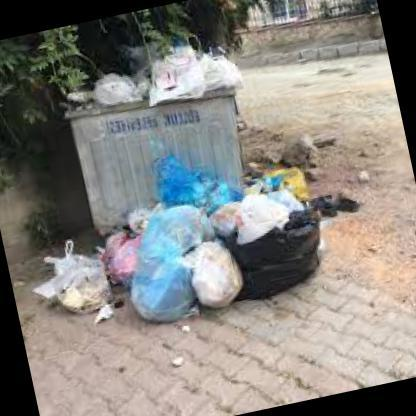Garbage: (6, 152, 362, 366), (104, 197, 231, 338), (68, 30, 254, 118), (218, 176, 334, 308), (29, 232, 124, 318), (142, 142, 235, 222), (182, 231, 245, 319), (136, 48, 209, 113), (181, 39, 243, 94)
